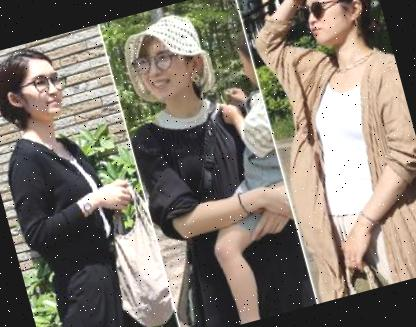person: (100, 0, 323, 327), (0, 23, 184, 327), (238, 0, 416, 302)
